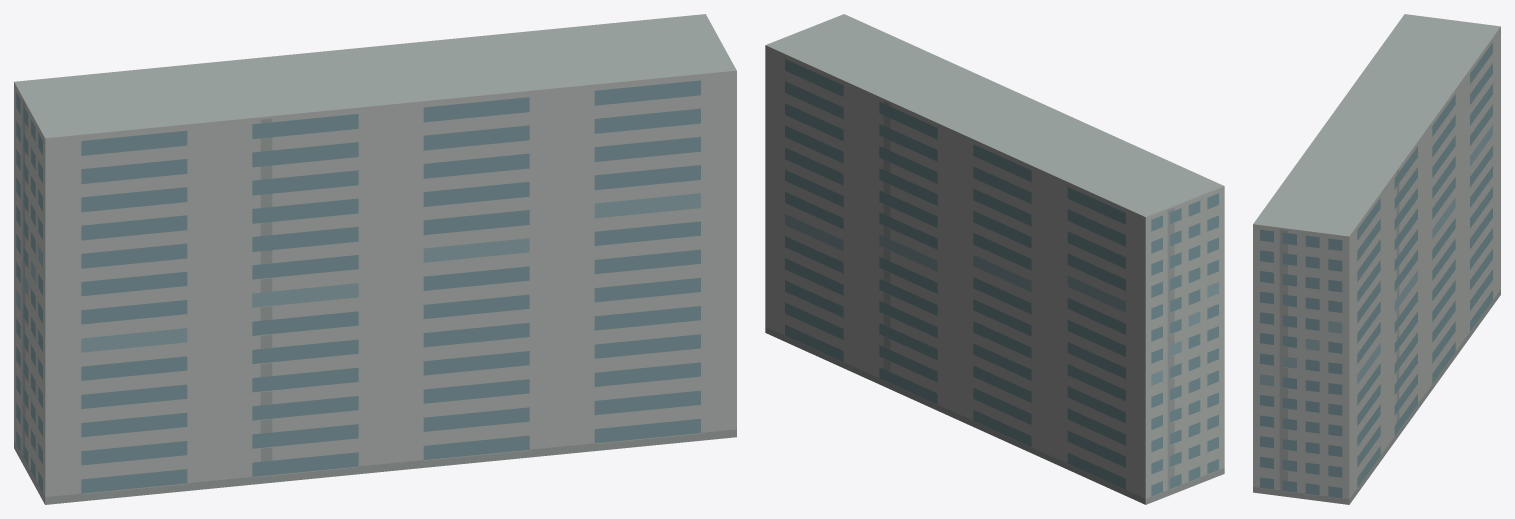
The model's file is residential-aa43b7bb-1b0c-46ad-a131-0f078d37faa1.glb.
3 views of the same model, side by side, from view 1: azimuth 30°, elevation 25°; view 2: azimuth 150°, elevation 25°; view 3: azimuth 270°, elevation 25° (orthographic). The views are drawn at different scales.
Visible parts, largest first — view 1: residential-aa43b7bb-1b0c-46ad-a131-0f078d37faa1.tmp; view 2: residential-aa43b7bb-1b0c-46ad-a131-0f078d37faa1.tmp; view 3: residential-aa43b7bb-1b0c-46ad-a131-0f078d37faa1.tmp.
Part boxes in pixels (bbox=[...]): residential-aa43b7bb-1b0c-46ad-a131-0f078d37faa1.tmp: bbox=[14, 14, 736, 504]; residential-aa43b7bb-1b0c-46ad-a131-0f078d37faa1.tmp: bbox=[765, 14, 1224, 504]; residential-aa43b7bb-1b0c-46ad-a131-0f078d37faa1.tmp: bbox=[1253, 14, 1500, 504].
Size of the model in its own units: 70.51 by 39.65 by 33.2.
